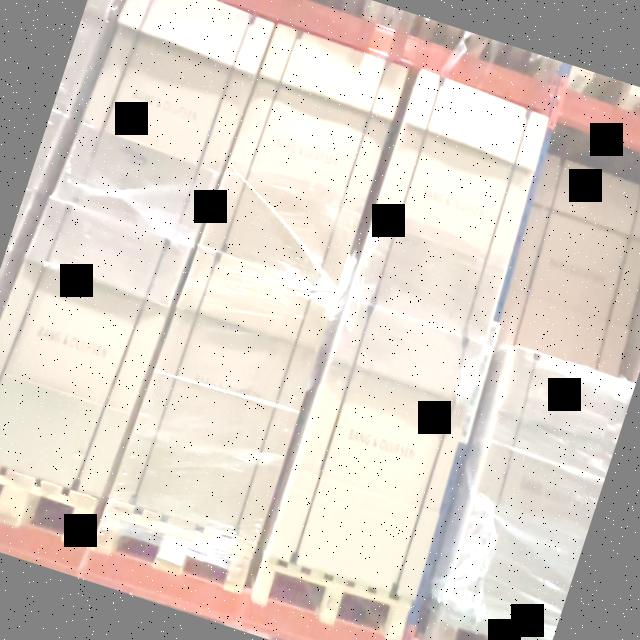box: (268, 306, 491, 597), (120, 258, 333, 538), (352, 75, 551, 338), (208, 33, 406, 289), (71, 0, 267, 235), (497, 162, 640, 377)
